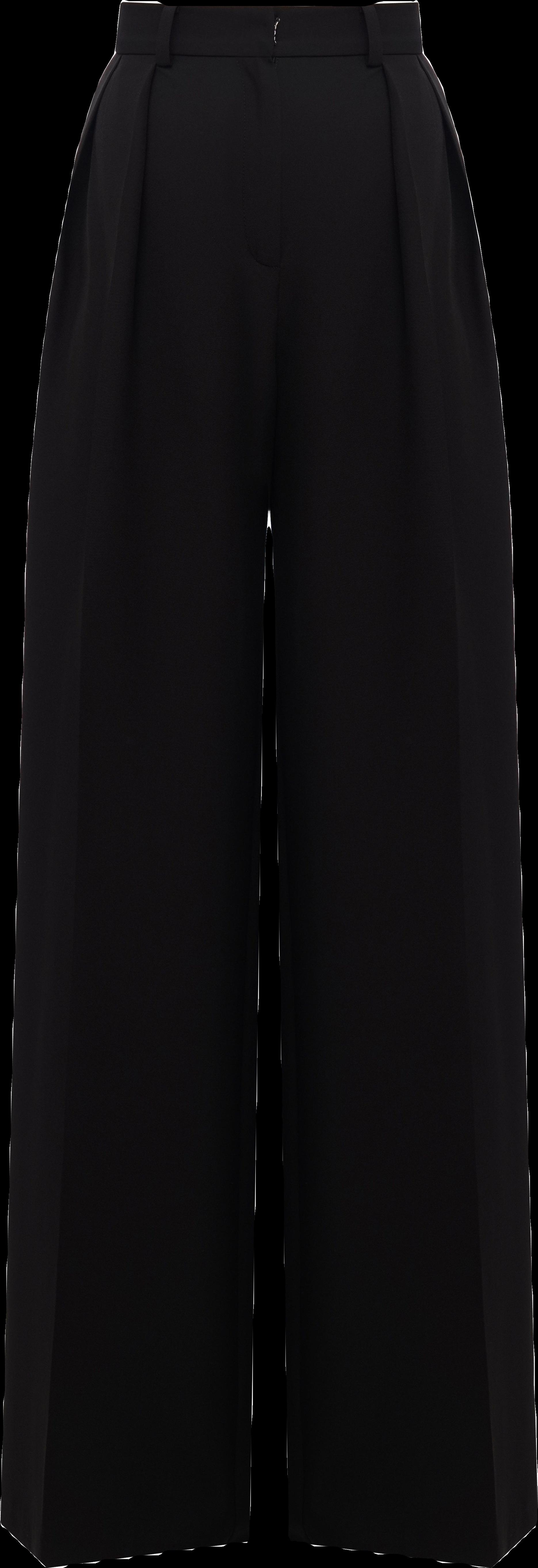Hemline: (286, 1507, 538, 1568), (0, 1507, 249, 1568)
Pantleg: (1, 0, 281, 1565), (271, 0, 538, 1565)
Waistline: (110, 39, 427, 73), (116, 0, 416, 21)
